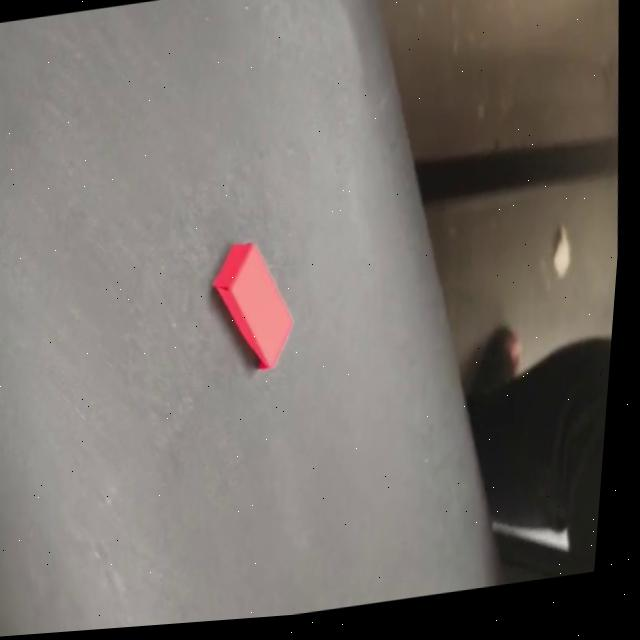red block: (202, 232, 304, 377)
